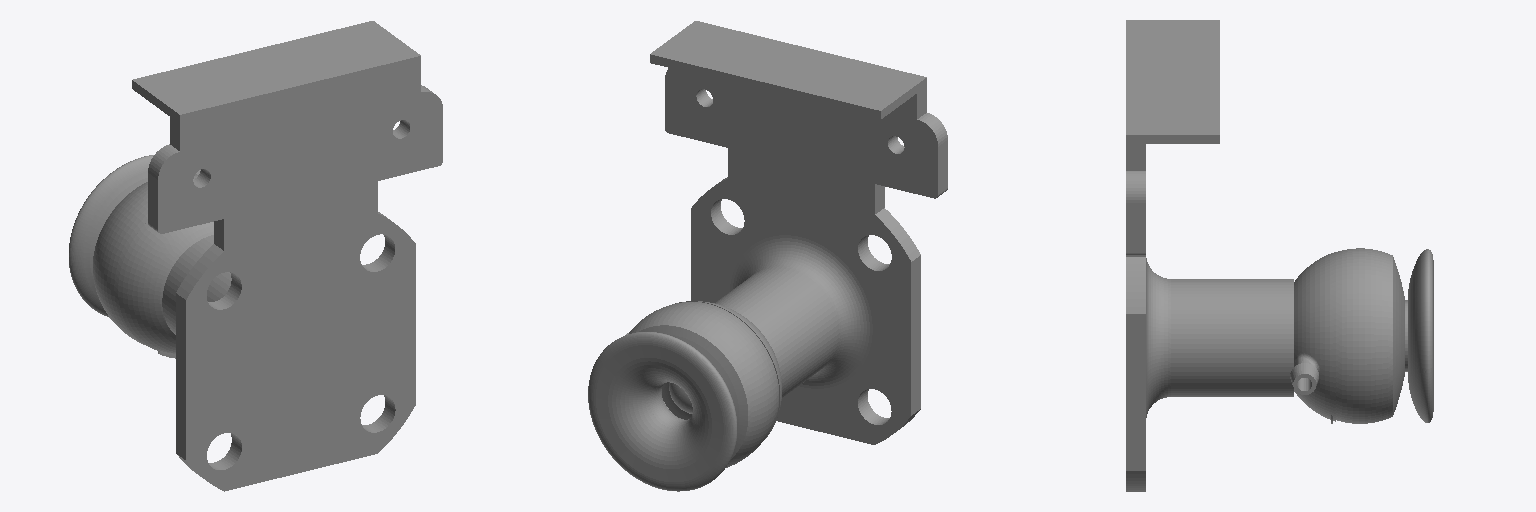
The robot description file, URDF, robot "ur3e_robot":
<?xml version="1.0" ?>
<!-- =================================================================================== -->
<!-- |    This document was autogenerated by xacro from [local-path]/PycharmProjects/realsense/catkin_ws/src/universal_robot/ur_description/urdf/ur3e.xacro | -->
<!-- |    EDITING THIS FILE BY HAND IS NOT RECOMMENDED                                 | -->
<!-- =================================================================================== -->
<robot name="ur3e_robot">
  <!--
    Base UR robot series xacro macro.

    NOTE: this is NOT a URDF. It cannot directly be loaded by consumers
    expecting a flattened '.urdf' file. See the top-level '.xacro' for that
    (but note: that .xacro must still be processed by the xacro command).

    For use in '.launch' files: use one of the 'load_urX.launch' convenience
    launch files.

    This file models the base kinematic chain of a UR robot, which then gets
    parameterised by various configuration files to convert it into a UR3(e),
    UR5(e), UR10(e), UR16e, UR20 or UR30.

    NOTE: the default kinematic parameters (ie: link lengths, frame locations,
    offets, etc) do not correspond to any particular robot. They are defaults
    only. There WILL be non-zero offsets between the Forward Kinematics results
    in TF (ie: robot_state_publisher) and the values reported by the Teach
    Pendant.

    For accurate (and robot-specific) transforms, the 'kinematics_parameters_file'
    parameter MUST point to a .yaml file containing the appropriate values for
    the targetted robot.

    If using the UniversalRobots/Universal_Robots_ROS_Driver, follow the steps
    described in the readme of that repository to extract the kinematic
    calibration from the controller and generate the required .yaml file.

    Main author of the migration to yaml configs: [author].

    Contributors to previous versions (in no particular order):

     - [author]
     - [author]
     - [author]
     - [author]
     - [author]
     - [author]
     - [author]
     - [author]
     - [author]
     - [author]
     - [author]
     - [author]
     - [author]
     - [author]
     - [author]
     - [author]
     - [author]
  -->
  <!--
    NOTE: the macro defined in this file is NOT part of the public API of this
          package. Users CANNOT rely on this file being available, or stored in
          this location. Nor can they rely on the existence of the macro.
  -->
  <transmission name="shoulder_pan_trans">
    <type>transmission_interface/SimpleTransmission</type>
    <joint name="shoulder_pan_joint">
      <hardwareInterface>hardware_interface/PositionJointInterface</hardwareInterface>
    </joint>
    <actuator name="shoulder_pan_motor">
      <mechanicalReduction>1</mechanicalReduction>
    </actuator>
  </transmission>
  <transmission name="shoulder_lift_trans">
    <type>transmission_interface/SimpleTransmission</type>
    <joint name="shoulder_lift_joint">
      <hardwareInterface>hardware_interface/PositionJointInterface</hardwareInterface>
    </joint>
    <actuator name="shoulder_lift_motor">
      <mechanicalReduction>1</mechanicalReduction>
    </actuator>
  </transmission>
  <transmission name="elbow_trans">
    <type>transmission_interface/SimpleTransmission</type>
    <joint name="elbow_joint">
      <hardwareInterface>hardware_interface/PositionJointInterface</hardwareInterface>
    </joint>
    <actuator name="elbow_motor">
      <mechanicalReduction>1</mechanicalReduction>
    </actuator>
  </transmission>
  <transmission name="wrist_1_trans">
    <type>transmission_interface/SimpleTransmission</type>
    <joint name="wrist_1_joint">
      <hardwareInterface>hardware_interface/PositionJointInterface</hardwareInterface>
    </joint>
    <actuator name="wrist_1_motor">
      <mechanicalReduction>1</mechanicalReduction>
    </actuator>
  </transmission>
  <transmission name="wrist_2_trans">
    <type>transmission_interface/SimpleTransmission</type>
    <joint name="wrist_2_joint">
      <hardwareInterface>hardware_interface/PositionJointInterface</hardwareInterface>
    </joint>
    <actuator name="wrist_2_motor">
      <mechanicalReduction>1</mechanicalReduction>
    </actuator>
  </transmission>
  <transmission name="wrist_3_trans">
    <type>transmission_interface/SimpleTransmission</type>
    <joint name="wrist_3_joint">
      <hardwareInterface>hardware_interface/PositionJointInterface</hardwareInterface>
    </joint>
    <actuator name="wrist_3_motor">
      <mechanicalReduction>1</mechanicalReduction>
    </actuator>
  </transmission>
  <!-- links: main serial chain -->
  <link name="base_link"/>
  <link name="base_link_inertia">
    <visual>
      <origin rpy="0 0 3.141592653589793" xyz="0 0 0"/>
      <geometry>
        <mesh filename="package://ur_description/meshes/ur3e/visual/base.dae"/>
      </geometry>
      <material name="LightGrey">
        <color rgba="0.7 0.7 0.7 1.0"/>
      </material>
    </visual>
    <collision>
      <origin rpy="0 0 3.141592653589793" xyz="0 0 0"/>
      <geometry>
        <mesh filename="package://ur_description/meshes/ur3e/collision/base.stl"/>
      </geometry>
    </collision>
    <inertial>
      <mass value="2.0"/>
      <origin rpy="0 0 0" xyz="0 0 0"/>
      <inertia ixx="0.0030531654454" ixy="0.0" ixz="0.0" iyy="0.0030531654454" iyz="0.0" izz="0.005625"/>
    </inertial>
  </link>
  <link name="shoulder_link">
    <visual>
      <origin rpy="0 0 3.141592653589793" xyz="0 0 0"/>
      <geometry>
        <mesh filename="package://ur_description/meshes/ur3e/visual/shoulder.dae"/>
      </geometry>
      <material name="LightGrey">
        <color rgba="0.7 0.7 0.7 1.0"/>
      </material>
    </visual>
    <collision>
      <origin rpy="0 0 3.141592653589793" xyz="0 0 0"/>
      <geometry>
        <mesh filename="package://ur_description/meshes/ur3e/collision/shoulder.stl"/>
      </geometry>
    </collision>
    <inertial>
      <mass value="2.0"/>
      <origin rpy="0 0 0" xyz="0 0 0"/>
      <inertia ixx="0.008093163429399999" ixy="0.0" ixz="0.0" iyy="0.008093163429399999" iyz="0.0" izz="0.005625"/>
    </inertial>
  </link>
  <link name="upper_arm_link">
    <visual>
      <origin rpy="1.5707963267948966 0 -1.5707963267948966" xyz="0 0 0.12"/>
      <geometry>
        <mesh filename="package://ur_description/meshes/ur3e/visual/upperarm.dae"/>
      </geometry>
      <material name="LightGrey">
        <color rgba="0.7 0.7 0.7 1.0"/>
      </material>
    </visual>
    <collision>
      <origin rpy="1.5707963267948966 0 -1.5707963267948966" xyz="0 0 0.12"/>
      <geometry>
        <mesh filename="package://ur_description/meshes/ur3e/collision/upperarm.stl"/>
      </geometry>
    </collision>
    <inertial>
      <mass value="3.42"/>
      <origin rpy="0 1.5707963267948966 0" xyz="-0.121825 0.0 0.12"/>
      <inertia ixx="0.021728483221103233" ixy="0.0" ixz="0.0" iyy="0.021728483221103233" iyz="0.0" izz="0.00961875"/>
    </inertial>
  </link>
  <link name="forearm_link">
    <visual>
      <origin rpy="1.5707963267948966 0 -1.5707963267948966" xyz="0 0 0.027"/>
      <geometry>
        <mesh filename="package://ur_description/meshes/ur3e/visual/forearm.dae"/>
      </geometry>
      <material name="LightGrey">
        <color rgba="0.7 0.7 0.7 1.0"/>
      </material>
    </visual>
    <collision>
      <origin rpy="1.5707963267948966 0 -1.5707963267948966" xyz="0 0 0.027"/>
      <geometry>
        <mesh filename="package://ur_description/meshes/ur3e/collision/forearm.stl"/>
      </geometry>
    </collision>
    <inertial>
      <mass value="1.26"/>
      <origin rpy="0 1.5707963267948966 0" xyz="-0.1066 0.0 0.027"/>
      <inertia ixx="0.0065445675821719194" ixy="0.0" ixz="0.0" iyy="0.0065445675821719194" iyz="0.0" izz="0.00354375"/>
    </inertial>
  </link>
  <link name="wrist_1_link">
    <visual>
      <!-- TODO: Move this to a parameter -->
      <origin rpy="1.5707963267948966 0 0" xyz="0 0 -0.104"/>
      <geometry>
        <mesh filename="package://ur_description/meshes/ur3e/visual/wrist1.dae"/>
      </geometry>
      <material name="LightGrey">
        <color rgba="0.7 0.7 0.7 1.0"/>
      </material>
    </visual>
    <collision>
      <origin rpy="1.5707963267948966 0 0" xyz="0 0 -0.104"/>
      <geometry>
        <mesh filename="package://ur_description/meshes/ur3e/collision/wrist1.stl"/>
      </geometry>
    </collision>
    <inertial>
      <mass value="0.8"/>
      <origin rpy="0 0 0" xyz="0 0 0"/>
      <inertia ixx="0.002084999166" ixy="0.0" ixz="0.0" iyy="0.002084999166" iyz="0.0" izz="0.00225"/>
    </inertial>
  </link>
  <link name="wrist_2_link">
    <visual>
      <origin rpy="0 0 0" xyz="0 0 -0.08535"/>
      <geometry>
        <mesh filename="package://ur_description/meshes/ur3e/visual/wrist2.dae"/>
      </geometry>
      <material name="LightGrey">
        <color rgba="0.7 0.7 0.7 1.0"/>
      </material>
    </visual>
    <collision>
      <origin rpy="0 0 0" xyz="0 0 -0.08535"/>
      <geometry>
        <mesh filename="package://ur_description/meshes/ur3e/collision/wrist2.stl"/>
      </geometry>
    </collision>
    <inertial>
      <mass value="0.8"/>
      <origin rpy="0 0 0" xyz="0 0 0"/>
      <inertia ixx="0.002084999166" ixy="0.0" ixz="0.0" iyy="0.002084999166" iyz="0.0" izz="0.00225"/>
    </inertial>
  </link>
  <link name="wrist_3_link">
    <visual>
      <origin rpy="1.5707963267948966 0 0" xyz="0 0 -0.0921"/>
      <geometry>
        <mesh filename="package://ur_description/meshes/ur3e/visual/wrist3.dae"/>
      </geometry>
      <material name="LightGrey">
        <color rgba="0.7 0.7 0.7 1.0"/>
      </material>
    </visual>
    <collision>
      <origin rpy="1.5707963267948966 0 0" xyz="0 0 -0.0921"/>
      <geometry>
        <mesh filename="package://ur_description/meshes/ur3e/collision/wrist3.stl"/>
      </geometry>
    </collision>
    <inertial>
      <mass value="0.35"/>
      <origin rpy="0 0 0" xyz="0.0 0.0 -0.02"/>
      <inertia ixx="0.00013626661215999998" ixy="0.0" ixz="0.0" iyy="0.00013626661215999998" iyz="0.0" izz="0.0001792"/>
    </inertial>
  </link>
  <!-- joints: main serial chain -->
  <joint name="base_link-base_link_inertia" type="fixed">
    <parent link="base_link"/>
    <child link="base_link_inertia"/>
    <!-- 'base_link' is REP-103 aligned (so X+ forward), while the internal
           frames of the robot/controller have X+ pointing backwards.
           Use the joint between 'base_link' and 'base_link_inertia' (a dummy
           link/frame) to introduce the necessary rotation over Z (of pi rad).
      -->
    <origin rpy="0 0 3.141592653589793" xyz="0 0 0"/>
  </joint>
  <joint name="shoulder_pan_joint" type="revolute">
    <parent link="base_link_inertia"/>
    <child link="shoulder_link"/>
    <origin rpy="0 0 0" xyz="0 0 0.15185"/>
    <axis xyz="0 0 1"/>
    <limit effort="56.0" lower="-6.283185307179586" upper="6.283185307179586" velocity="3.141592653589793"/>
    <dynamics damping="0" friction="0"/>
  </joint>
  <joint name="shoulder_lift_joint" type="revolute">
    <parent link="shoulder_link"/>
    <child link="upper_arm_link"/>
    <origin rpy="1.570796327 0 0" xyz="0 0 0"/>
    <axis xyz="0 0 1"/>
    <limit effort="56.0" lower="-6.283185307179586" upper="6.283185307179586" velocity="3.141592653589793"/>
    <dynamics damping="0" friction="0"/>
  </joint>
  <joint name="elbow_joint" type="revolute">
    <parent link="upper_arm_link"/>
    <child link="forearm_link"/>
    <origin rpy="0 0 0" xyz="-0.24355 0 0"/>
    <axis xyz="0 0 1"/>
    <limit effort="28.0" lower="-3.141592653589793" upper="3.141592653589793" velocity="3.141592653589793"/>
    <dynamics damping="0" friction="0"/>
  </joint>
  <joint name="wrist_1_joint" type="revolute">
    <parent link="forearm_link"/>
    <child link="wrist_1_link"/>
    <origin rpy="0 0 0" xyz="-0.2132 0 0.13105"/>
    <axis xyz="0 0 1"/>
    <limit effort="12.0" lower="-6.283185307179586" upper="6.283185307179586" velocity="6.283185307179586"/>
    <dynamics damping="0" friction="0"/>
  </joint>
  <joint name="wrist_2_joint" type="revolute">
    <parent link="wrist_1_link"/>
    <child link="wrist_2_link"/>
    <origin rpy="1.570796327 0 0" xyz="0 -0.08535 -1.750557762378351e-11"/>
    <axis xyz="0 0 1"/>
    <limit effort="12.0" lower="-6.283185307179586" upper="6.283185307179586" velocity="6.283185307179586"/>
    <dynamics damping="0" friction="0"/>
  </joint>
  <joint name="wrist_3_joint" type="revolute">
    <parent link="wrist_2_link"/>
    <child link="wrist_3_link"/>
    <origin rpy="1.570796326589793 3.141592653589793 3.141592653589793" xyz="0 0.0921 -1.8890025766262e-11"/>
    <axis xyz="0 0 1"/>
    <limit effort="12.0" lower="-6.283185307179586" upper="6.283185307179586" velocity="6.283185307179586"/>
    <dynamics damping="0" friction="0"/>
  </joint>
  <!-- ROS-Industrial 'base' frame: base_link to UR 'Base' Coordinates transform -->
  <link name="base"/>
  <joint name="base_link-base_fixed_joint" type="fixed">
    <!-- Note the rotation over Z of pi radians: as base_link is REP-103
           aligned (ie: has X+ forward, Y+ left and Z+ up), this is needed
           to correctly align 'base' with the 'Base' coordinate system of
           the UR controller.
      -->
    <origin rpy="0 0 3.141592653589793" xyz="0 0 0"/>
    <parent link="base_link"/>
    <child link="base"/>
  </joint>
  <!-- ROS-Industrial 'flange' frame: attachment point for EEF models -->
  <link name="flange"/>
  <joint name="wrist_3-flange" type="fixed">
    <parent link="wrist_3_link"/>
    <child link="flange"/>
    <origin rpy="0 -1.5707963267948966 -1.5707963267948966" xyz="0 0 0"/>
  </joint>
  <!-- ROS-Industrial 'tool0' frame: all-zeros tool frame -->
  <link name="tool0"/>
  <joint name="flange-tool0" type="fixed">
    <!-- default toolframe: X+ left, Y+ up, Z+ front -->
    <origin rpy="1.5707963267948966 0 1.5707963267948966" xyz="0 0 0"/>
    <parent link="flange"/>
    <child link="tool0"/>
  </joint>
  <!-- Gripper Link -->
  <link name="gripper">
    <visual>
      <origin rpy="0 0 3.14" xyz="0 0 0.1"/>
      <geometry>
        <mesh filename="package://gripper/meshes/AOS_mount.dae" scale="0.001 0.001 0.001"/>
      </geometry>
    </visual>
    <collision>
      <origin rpy="0 0 3.14" xyz="0 0 0.1"/>
      <geometry>
        <mesh filename="package://gripper/meshes/AOS_mount.dae" scale="0.001 0.001 0.001"/>
      </geometry>
    </collision>
    <inertial>
      <origin rpy="0 0 3.14" xyz="0 0 0"/>
      <mass value="0.2"/>
      <inertia ixx="0.01" ixy="0.0" ixz="0.0" iyy="0.001" iyz="0.0" izz="0.001"/>
    </inertial>
  </link>
  <!-- Joint connecting tool0 to gripper -->
  <joint name="tool0_gripper_joint" type="fixed">
    <parent link="tool0"/>
    <child link="gripper"/>
    <origin rpy="0 0 0" xyz="0 0 0"/>
  </joint>
</robot>

--- What the picture shows (computed from the rendered views, not written in the file) ---
3 views of the same robot in one strip: view 1: azimuth 30°, elevation 25°; view 2: azimuth 150°, elevation 25°; view 3: azimuth 270°, elevation 25° (orthographic).
Model ur3e_robot with 12 links and 11 joints (6 revolute, 5 fixed), rooted at base_link, posed every joint at zero.
Visible links, largest first — view 1: gripper; view 2: gripper; view 3: gripper.
Boxes of the visible links, <box> form: gripper: <box>69,21,442,491</box>; gripper: <box>588,21,947,491</box>; gripper: <box>1126,20,1433,491</box>.
Bounding box of the posed robot: 0.065 × 0.0623 × 0.0845 m (x, y, z).
Meshes: 8 distinct files referenced, 1 mesh visuals loaded (1 Collada DAE); not drawn: 7 (reference not matched to a file when rendering).